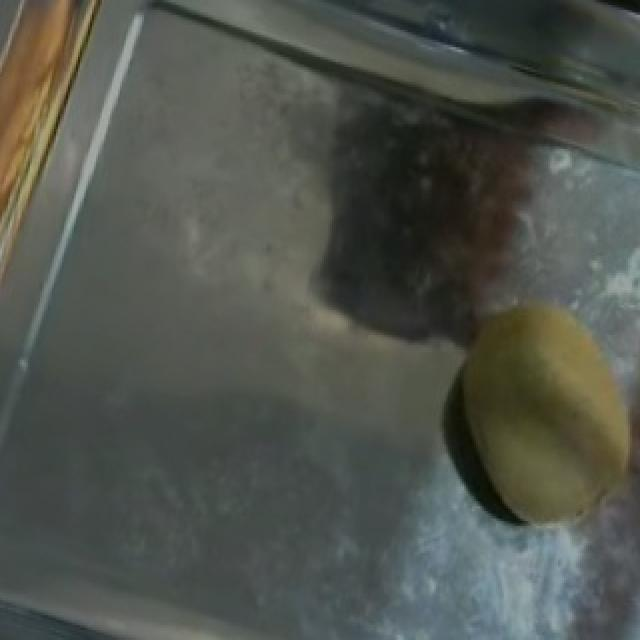Fruit: (420, 263, 640, 553), (0, 0, 146, 246)
